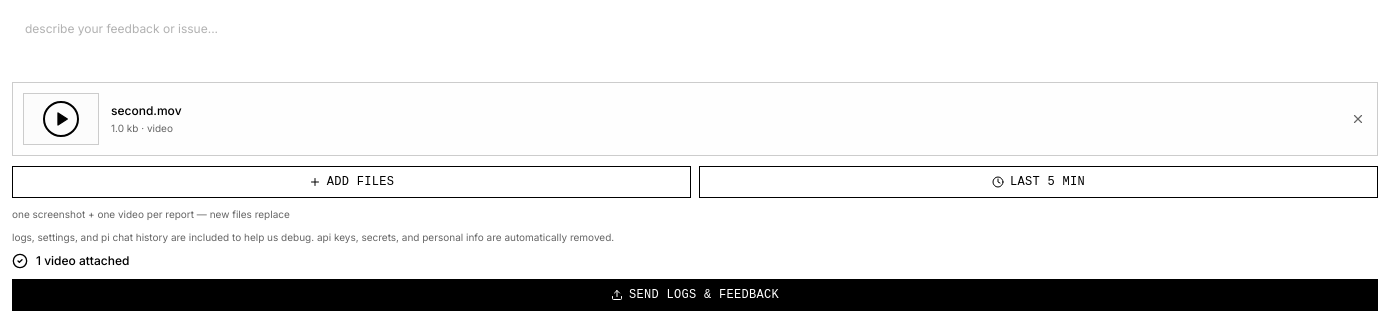
Test: ShareLogsButton attachments › supports removing and replacing a video attachment
The image size is (1390, 328).
Earlier steps of the test are not shown.
expect the element with test id "video-attachment" is shown: met, box [12,82,1378,156]
expect the element with test id "video-attachment" shows "second.mov": met, box [111,102,182,118]
Click the button named "remove video" at (1358, 119), box [1349,110,1367,128]
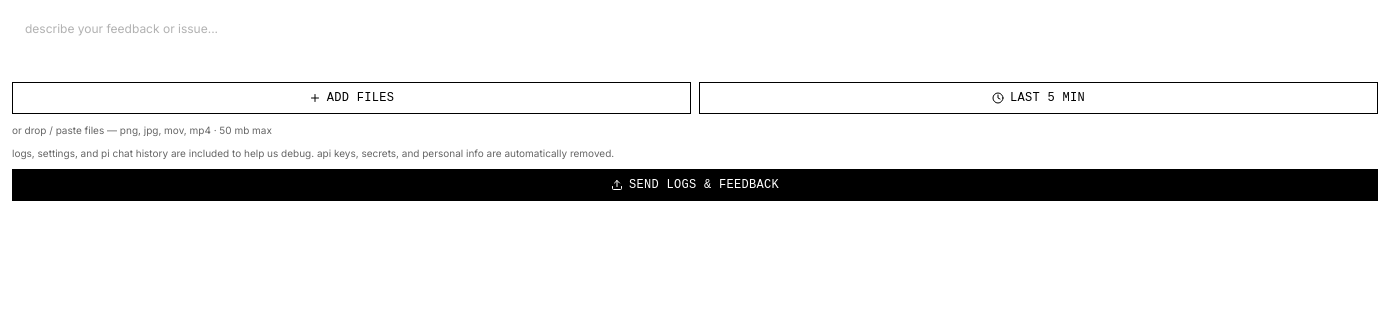
expect the element with test id "video-attachment" is gone: met
